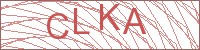A: (120, 5, 148, 36)
C: (45, 11, 70, 40)
K: (98, 2, 121, 32)
L: (70, 6, 91, 36)
